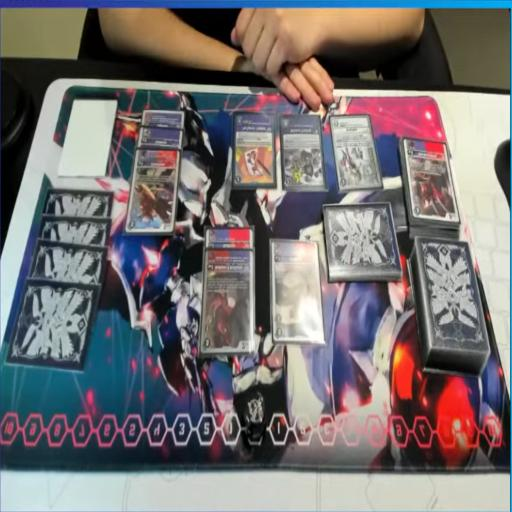card: (199, 249, 255, 358), (271, 237, 320, 346), (124, 148, 183, 237), (330, 110, 382, 196), (407, 138, 458, 223), (282, 112, 326, 194), (232, 110, 275, 191), (138, 126, 184, 160), (204, 227, 255, 257), (140, 109, 186, 134)
